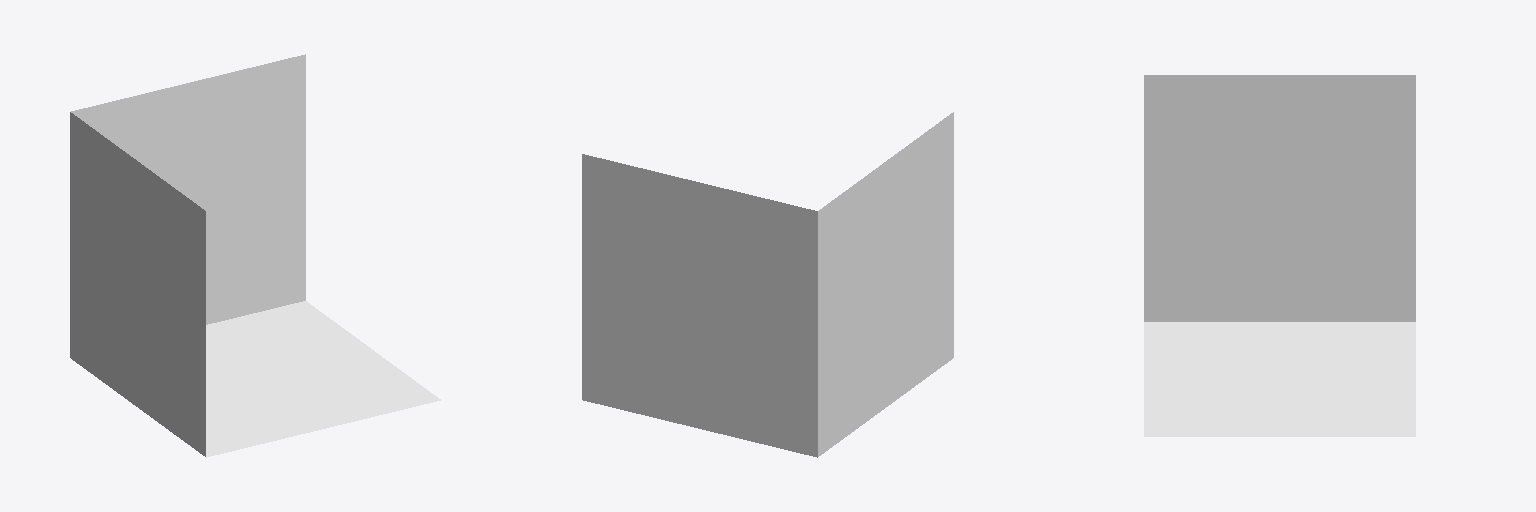
The model's file is alley.obj.
3 renders of one model, left to right at view 1: azimuth 30°, elevation 25°; view 2: azimuth 150°, elevation 25°; view 3: azimuth 270°, elevation 25°, orthographic.
Visible parts, largest first — view 1: walls, floor; view 2: walls; view 3: walls, floor.
Boxes of the visible parts, x1=… form: walls: x1=70, y1=54, x2=305, y2=456; floor: x1=206, y1=301, x2=440, y2=457; walls: x1=582, y1=112, x2=953, y2=457; walls: x1=1144, y1=75, x2=1415, y2=321; floor: x1=1144, y1=322, x2=1415, y2=436.
Size of the model in its own units: 10 by 10 by 10.